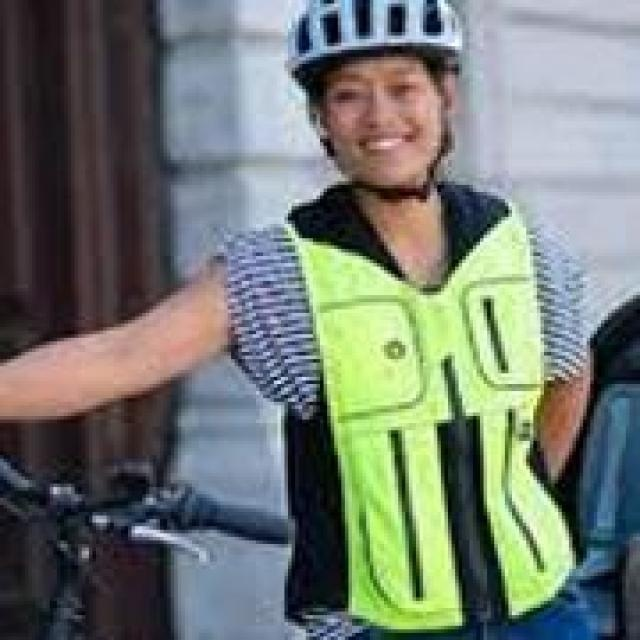Con_Chaleco: (291, 196, 558, 624)
